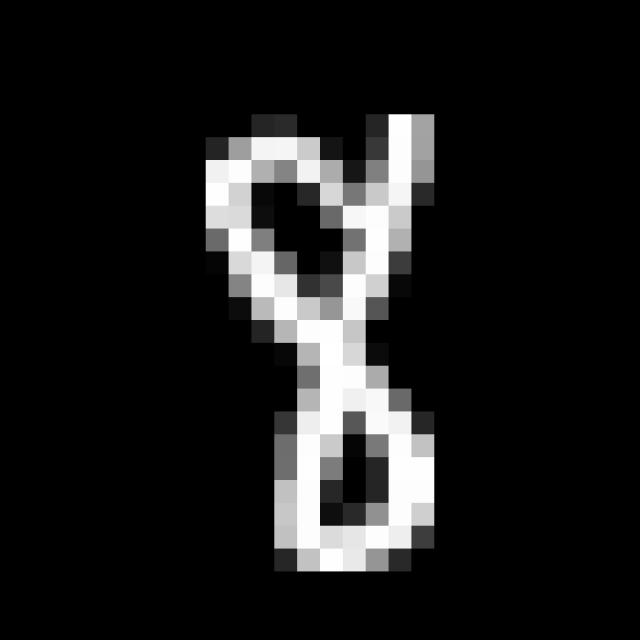eight -8-: (199, 114, 452, 585)
